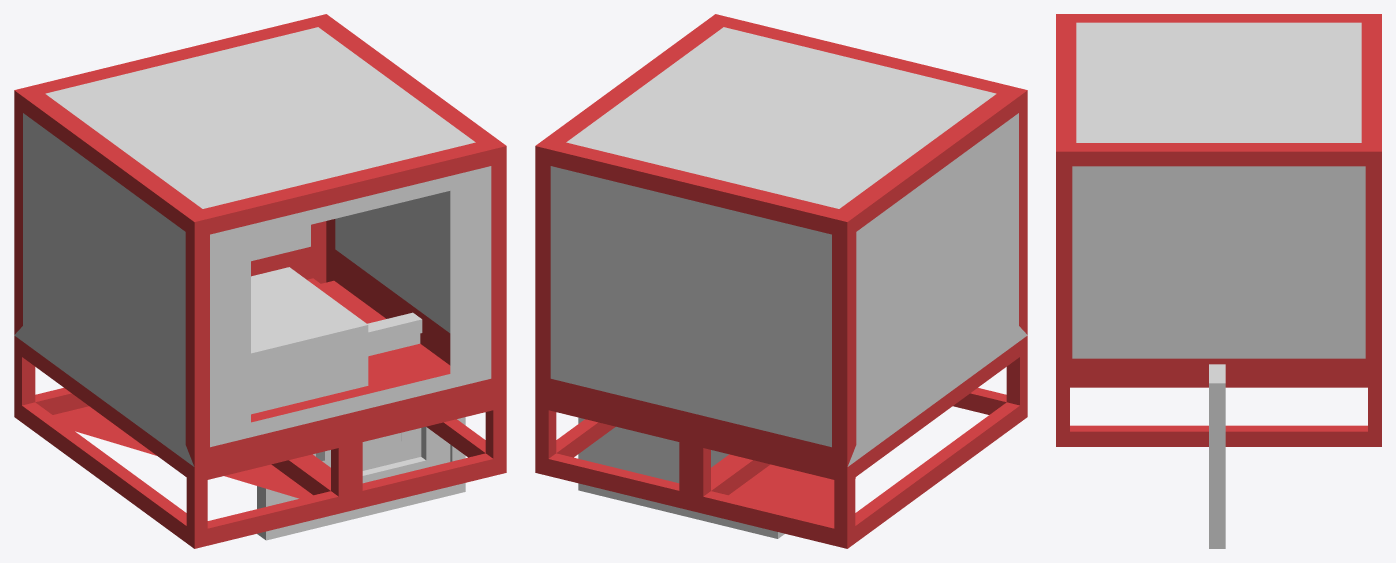
The model's file is PH_SOURD-CHAMBER_ - Copy.fbx.
3 views of the same model, side by side, from view 1: azimuth 30°, elevation 25°; view 2: azimuth 150°, elevation 25°; view 3: azimuth 270°, elevation 25° (orthographic). The views are drawn at different scales.
Parts seen in each view (by area): view 1: BODY, SUPPORT, DOOR; view 2: BODY, DOOR; view 3: BODY, DOOR.
Part boxes in pixels (bbox=[...]): BODY: bbox=[14, 14, 506, 548]; SUPPORT: bbox=[251, 267, 368, 414]; DOOR: bbox=[257, 312, 465, 540]; BODY: bbox=[535, 14, 1027, 548]; DOOR: bbox=[578, 417, 784, 538]; BODY: bbox=[1056, 14, 1381, 446]; DOOR: bbox=[1209, 364, 1225, 548].
Size of the model in its own units: 56.93 by 64.01 by 50.
